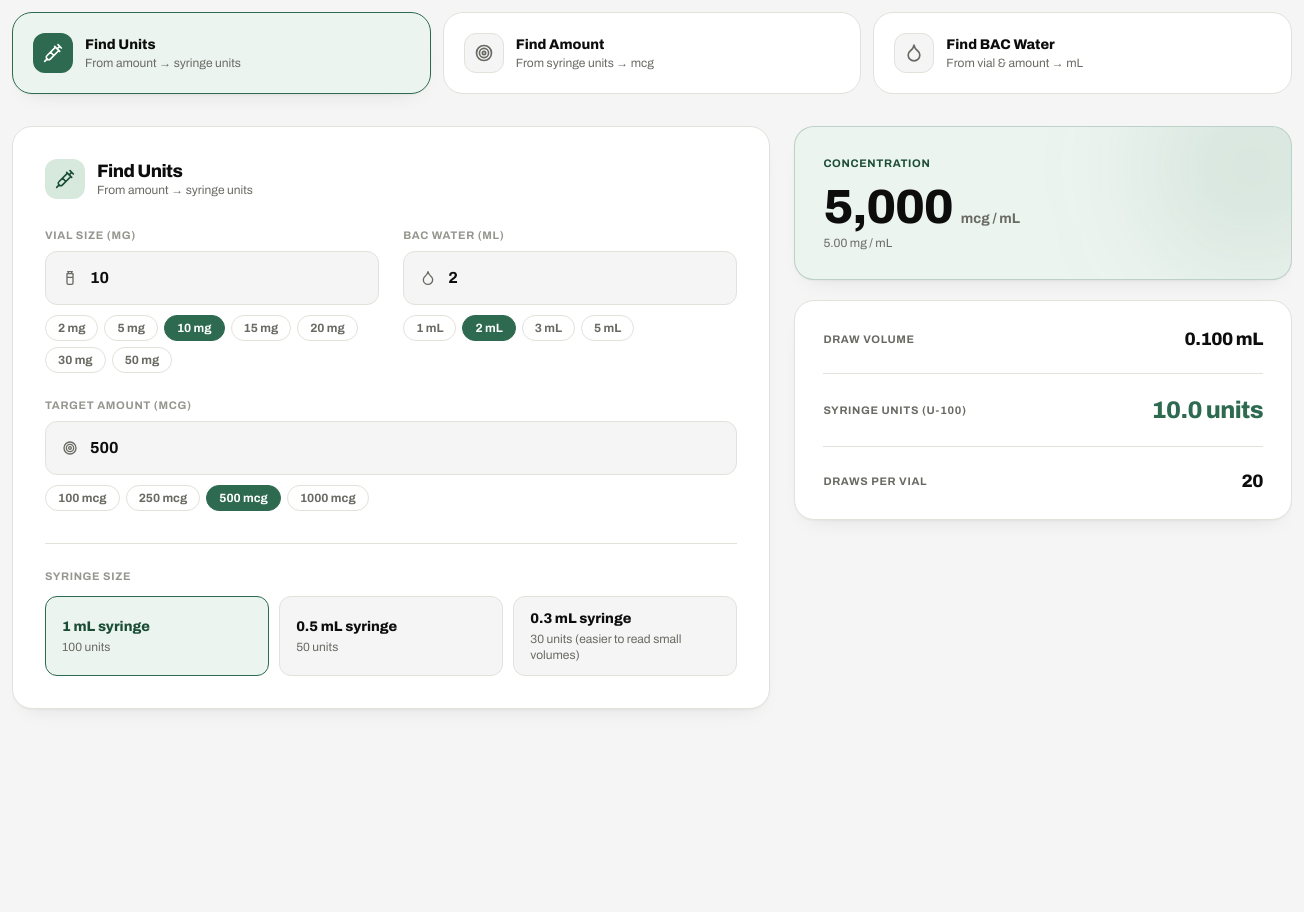
Test case: ReconstitutionCalculator › Find BAC Water lands 250 mcg on the 25-unit mark of a 5 mg vial with 5 mL
Click the button "Find BAC Water From vial & amount → mL".
click(1083, 53)  # box [873,12,1292,94]
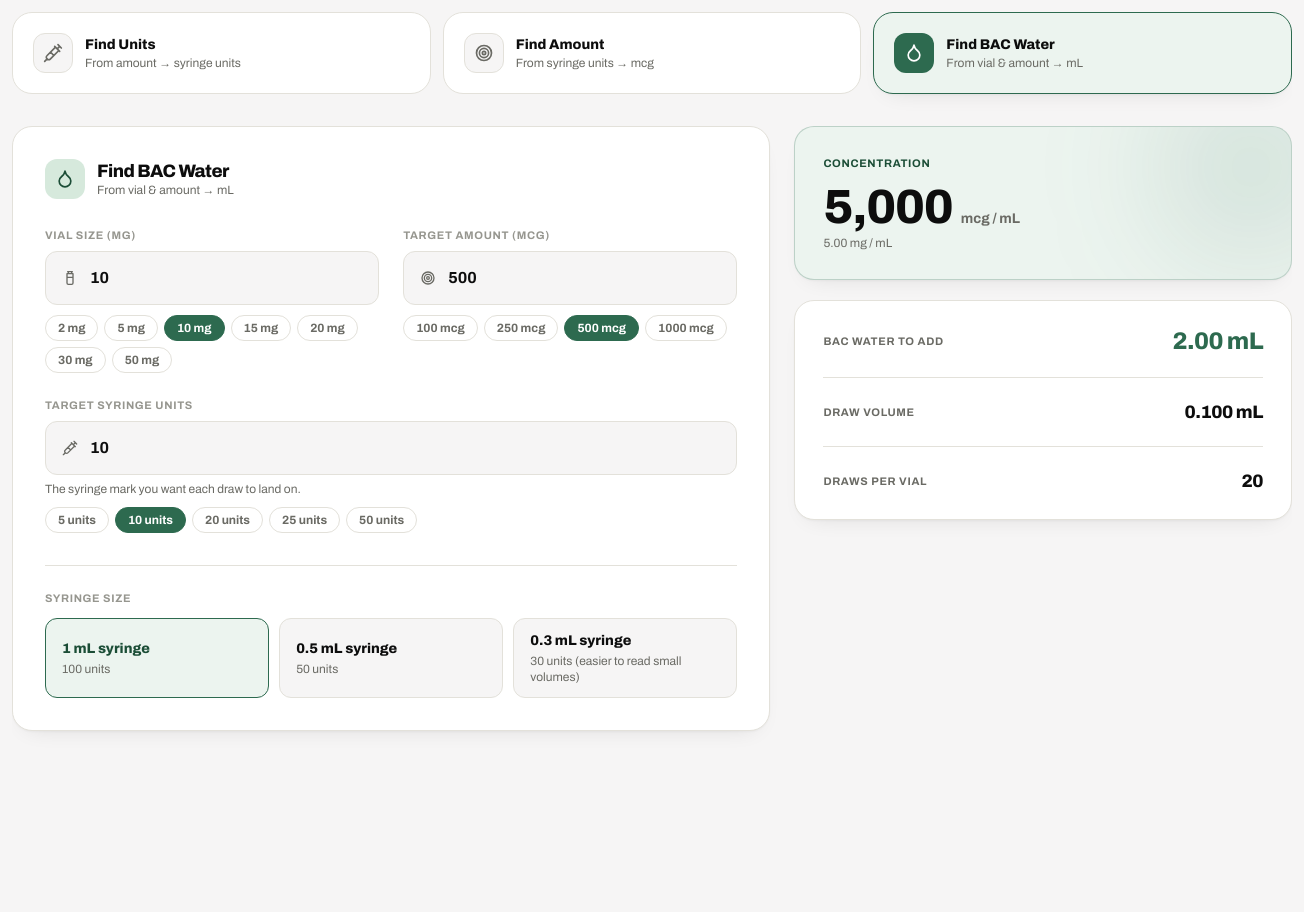
Replace the text in the number field labelled "Vial size (mg)" with "5" at (226,278), box [90,266,362,290]
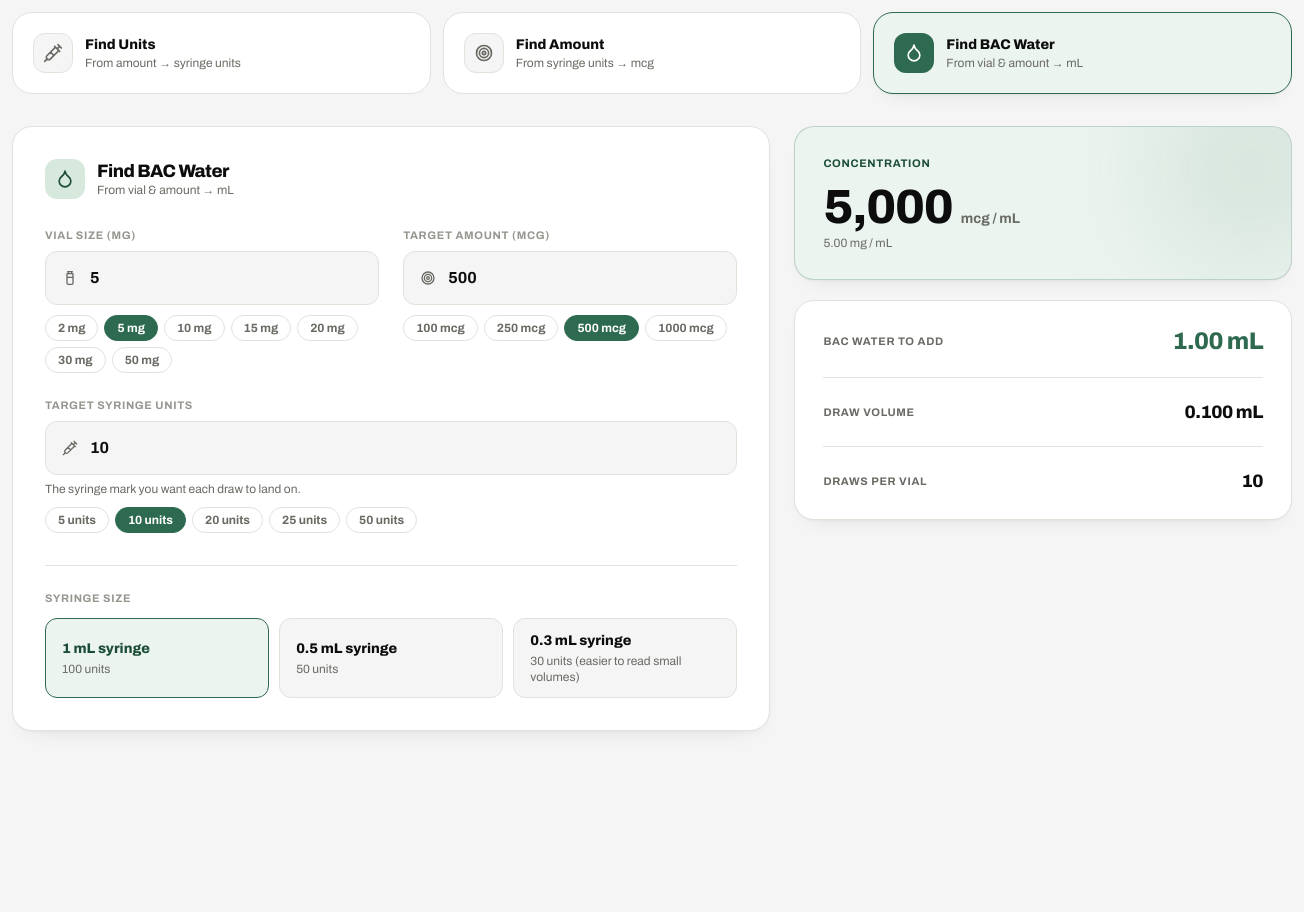
Replace the text in the number field labelled "Target amount (mcg)" with "250" at (584,278), box [448,266,720,290]
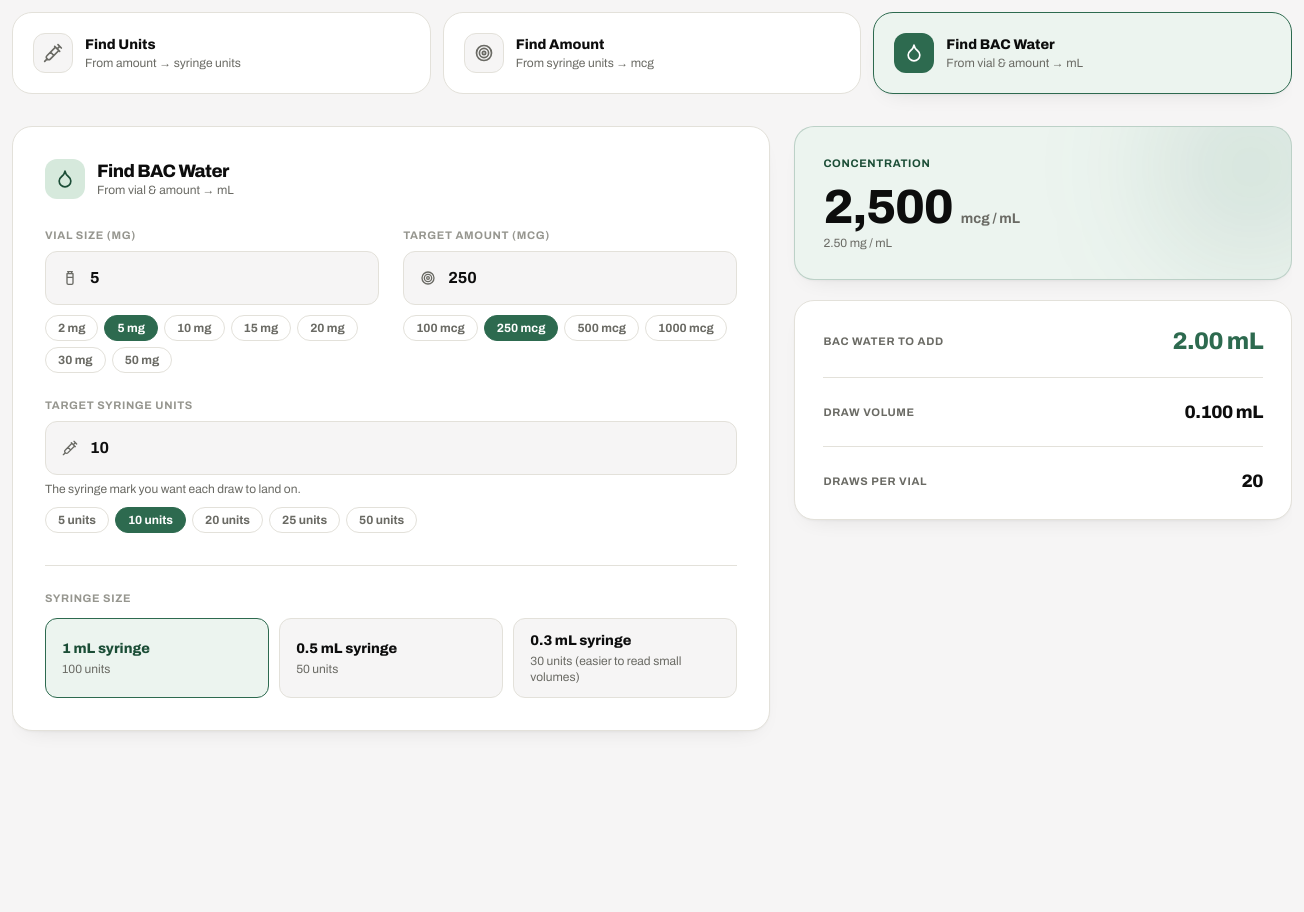
Replace the text in the number field labelled "Target syringe units" with "25" at (405,448), box [90,436,720,460]
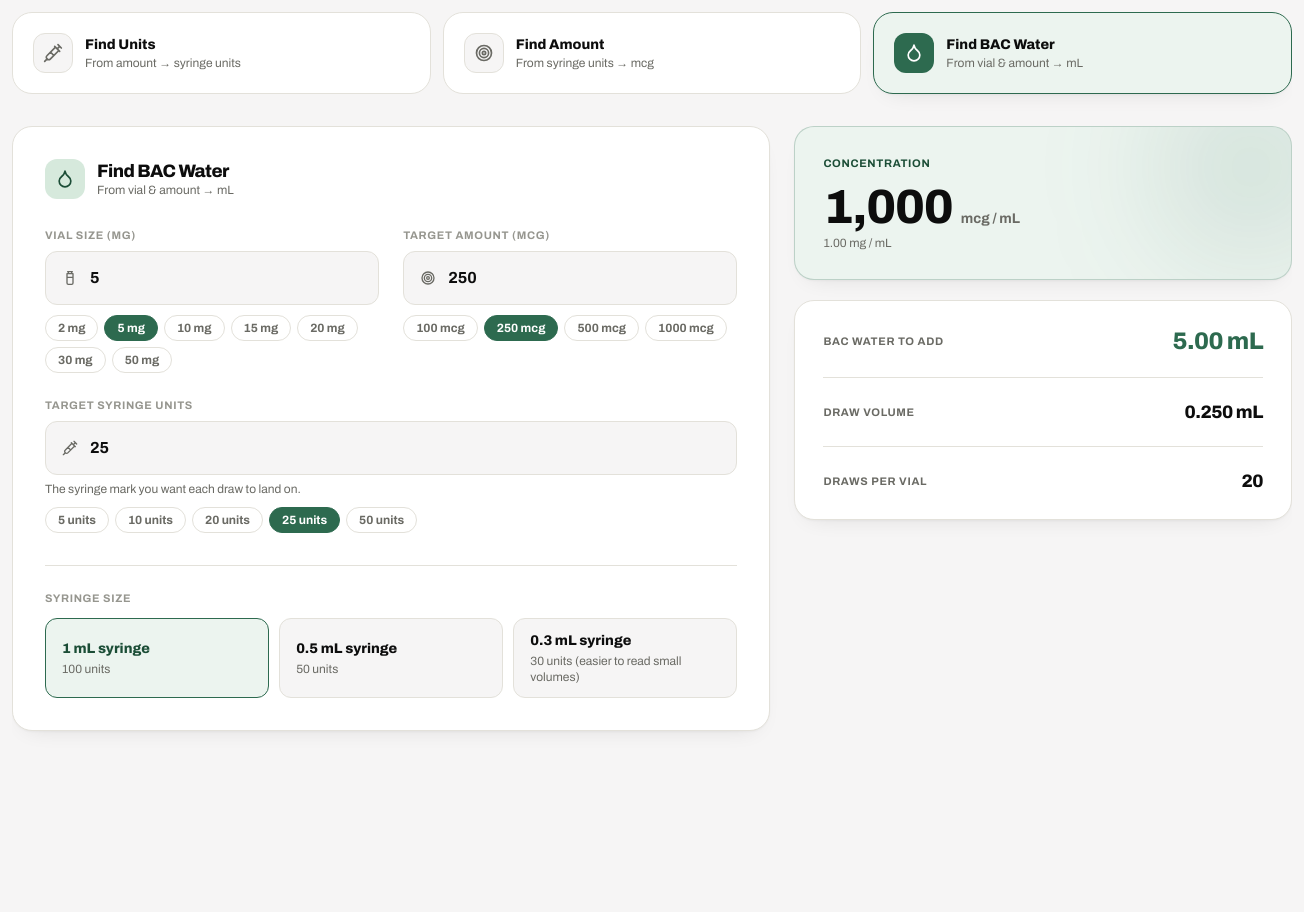
Expected: the text "5.00 mL" is shown, [1173,325,1263,357]
Expected: the text "1,000" is shown, [823,183,953,231]
